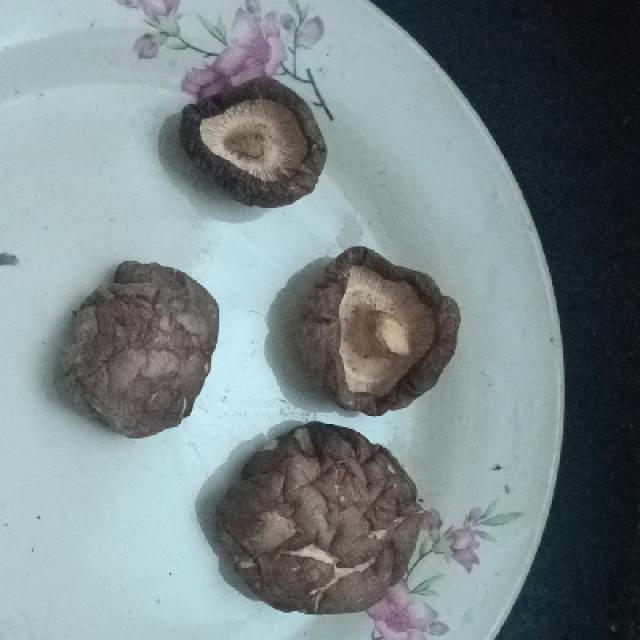Lentinus edodes: (214, 421, 423, 615), (61, 261, 222, 438), (310, 243, 462, 415), (179, 76, 327, 206)
